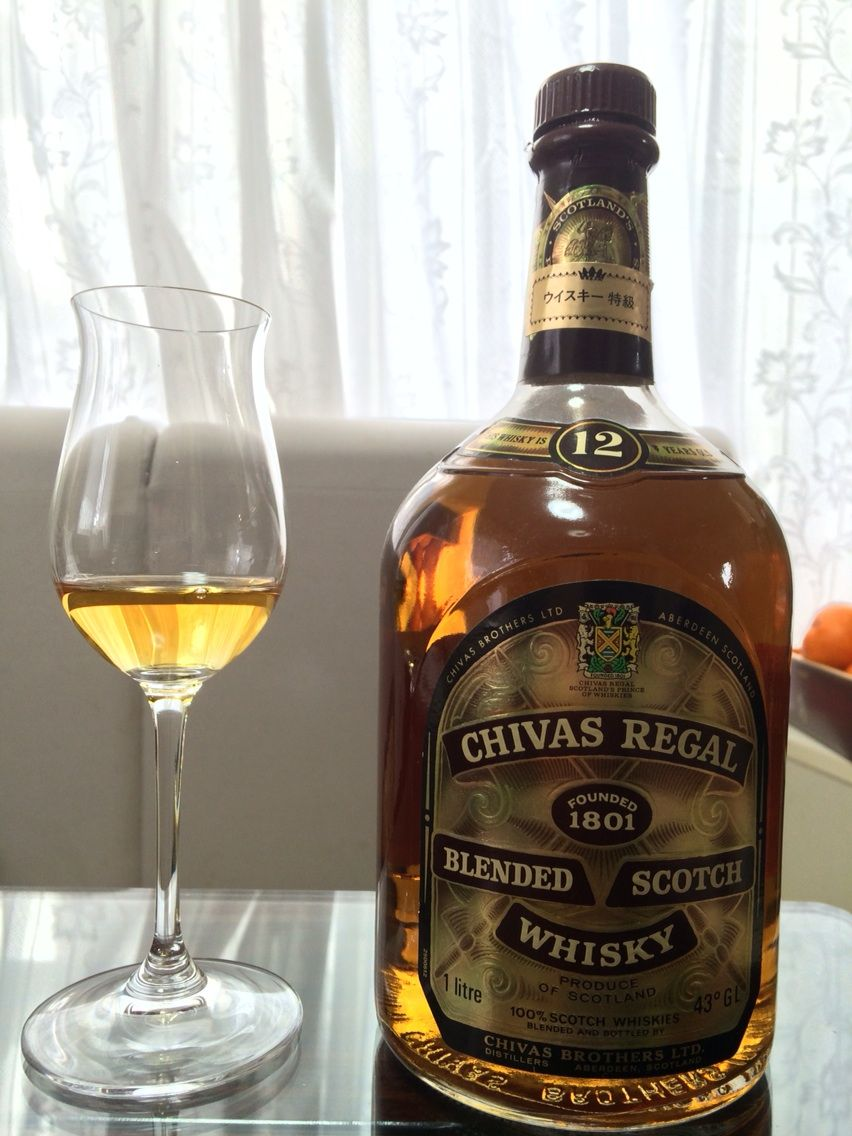Chivas Regal: (364, 56, 801, 1136)
